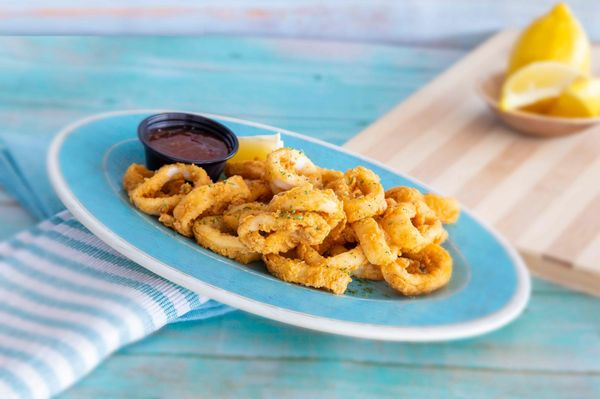sushi: (481, 3, 600, 138)
taco: (482, 2, 600, 138)
